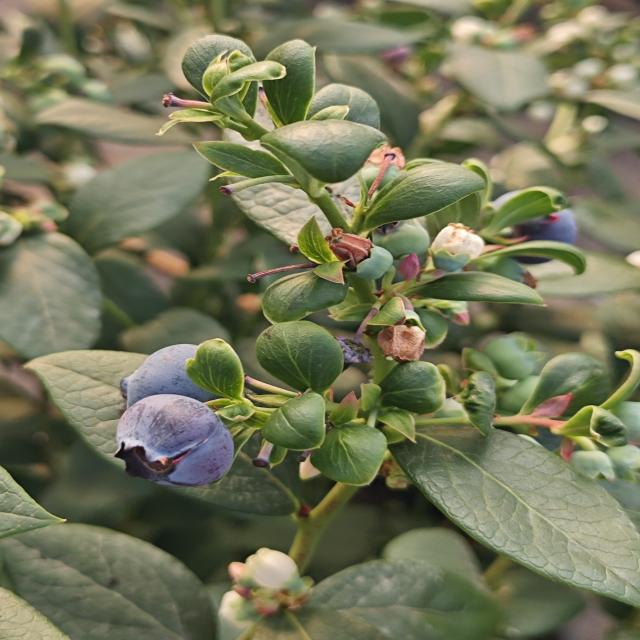ripe: (105, 400, 234, 488), (102, 342, 199, 406), (528, 197, 590, 245)
